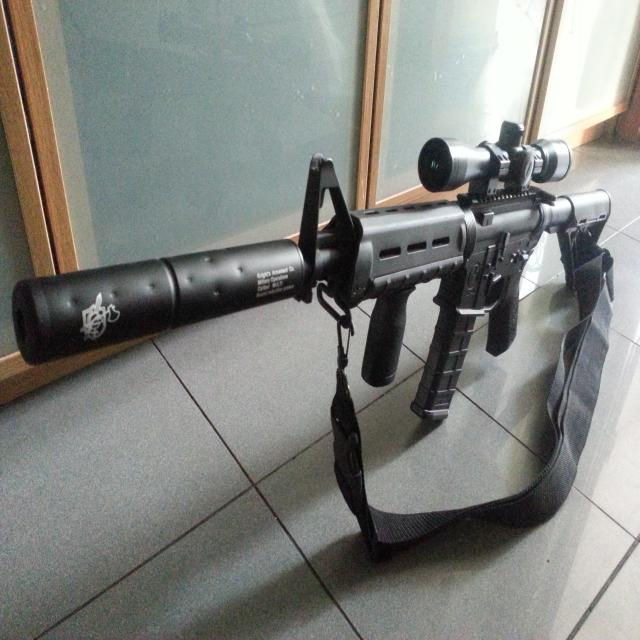firearm: (12, 120, 610, 420)
